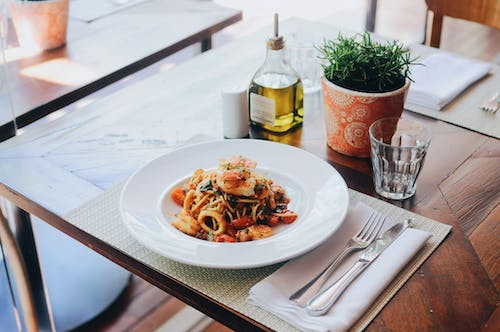knife: (306, 217, 414, 317)
